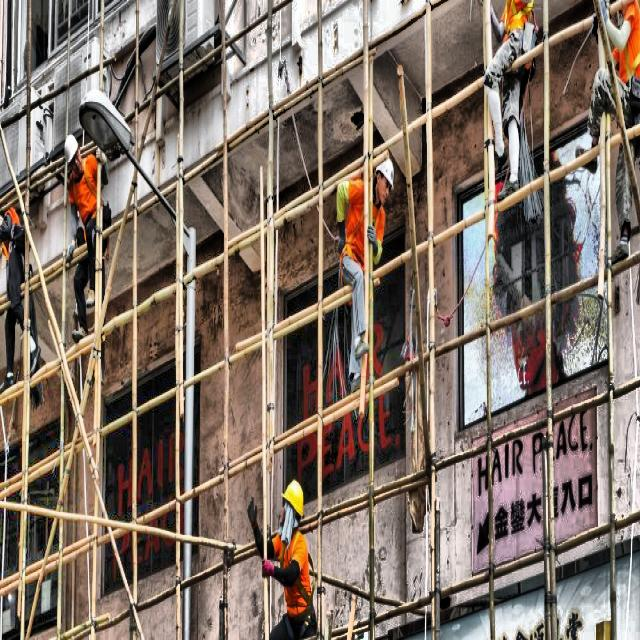safety_helmet: (56, 127, 82, 165), (378, 148, 394, 193)
safety_jacket: (280, 472, 310, 512)
